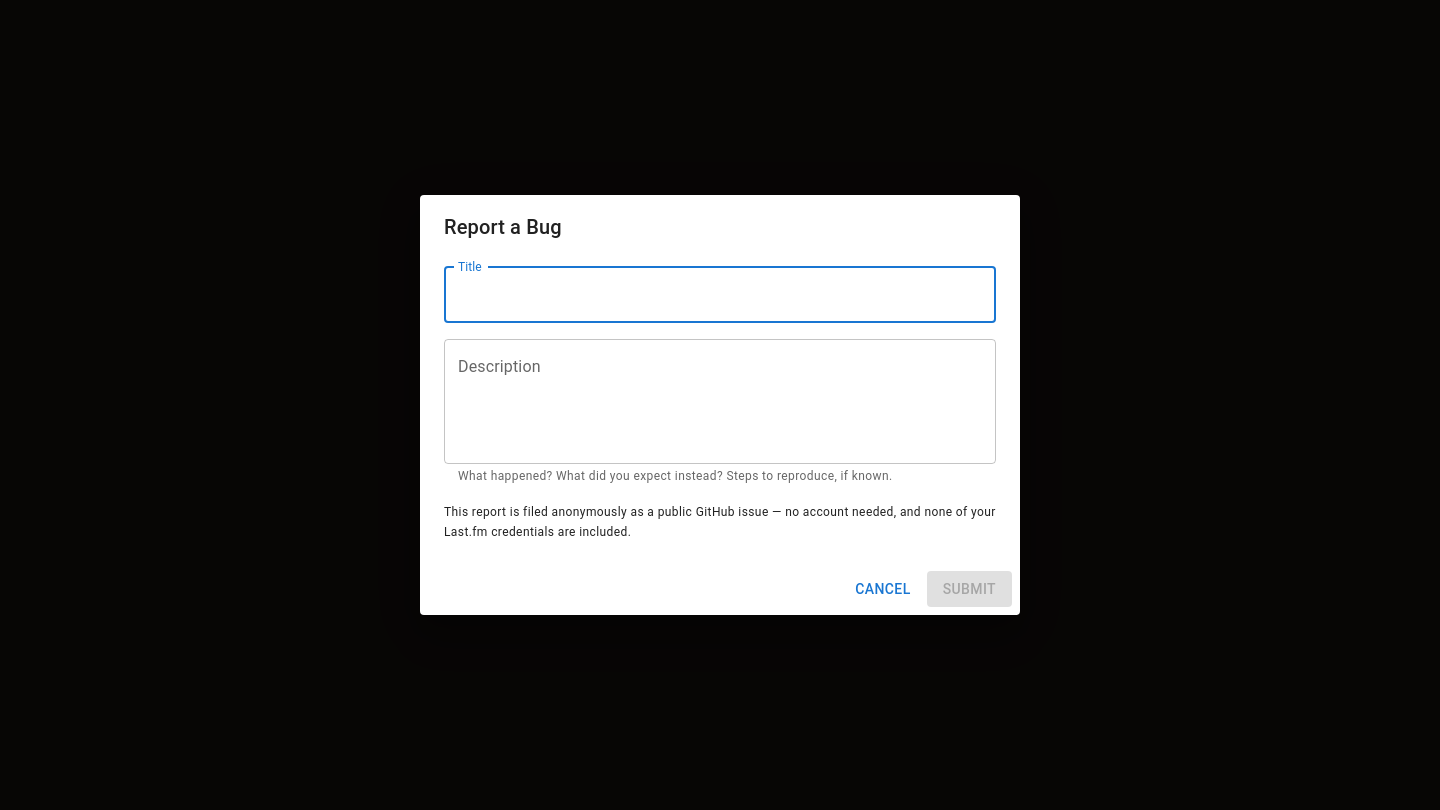
Scenario: BugReportDialog › disables submit until both fields have content
The image size is (1440, 810).
Expected: the button "Submit" is disabled, [927,571,1012,607]
Type "Title" into the field labelled "Title". click: (720, 295)
box: [444,267,996,323]
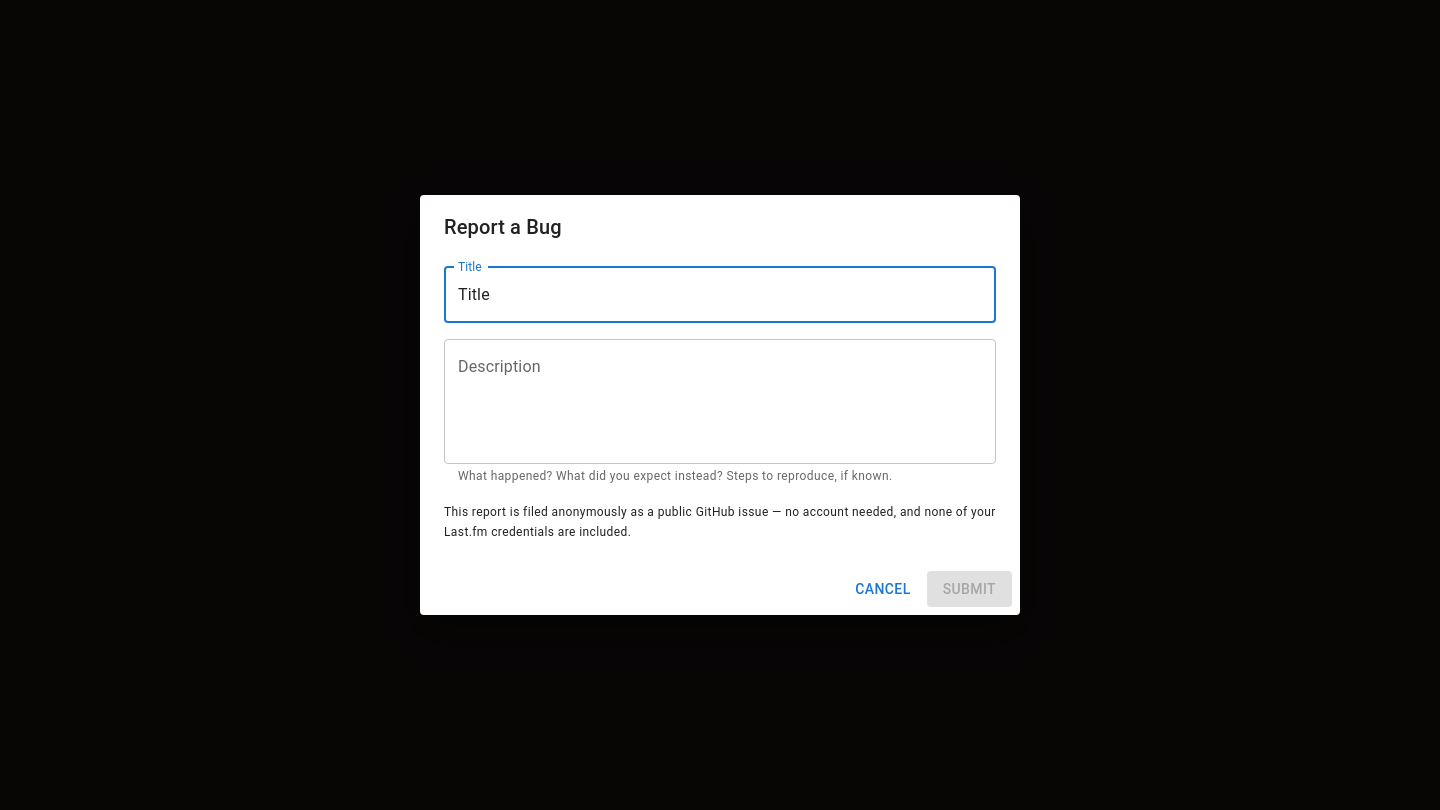
Expected: the button "Submit" is disabled, [927,571,1012,607]
Type "Description" into the text box labelled "Description". click: (720, 401)
box: [458,355,982,447]
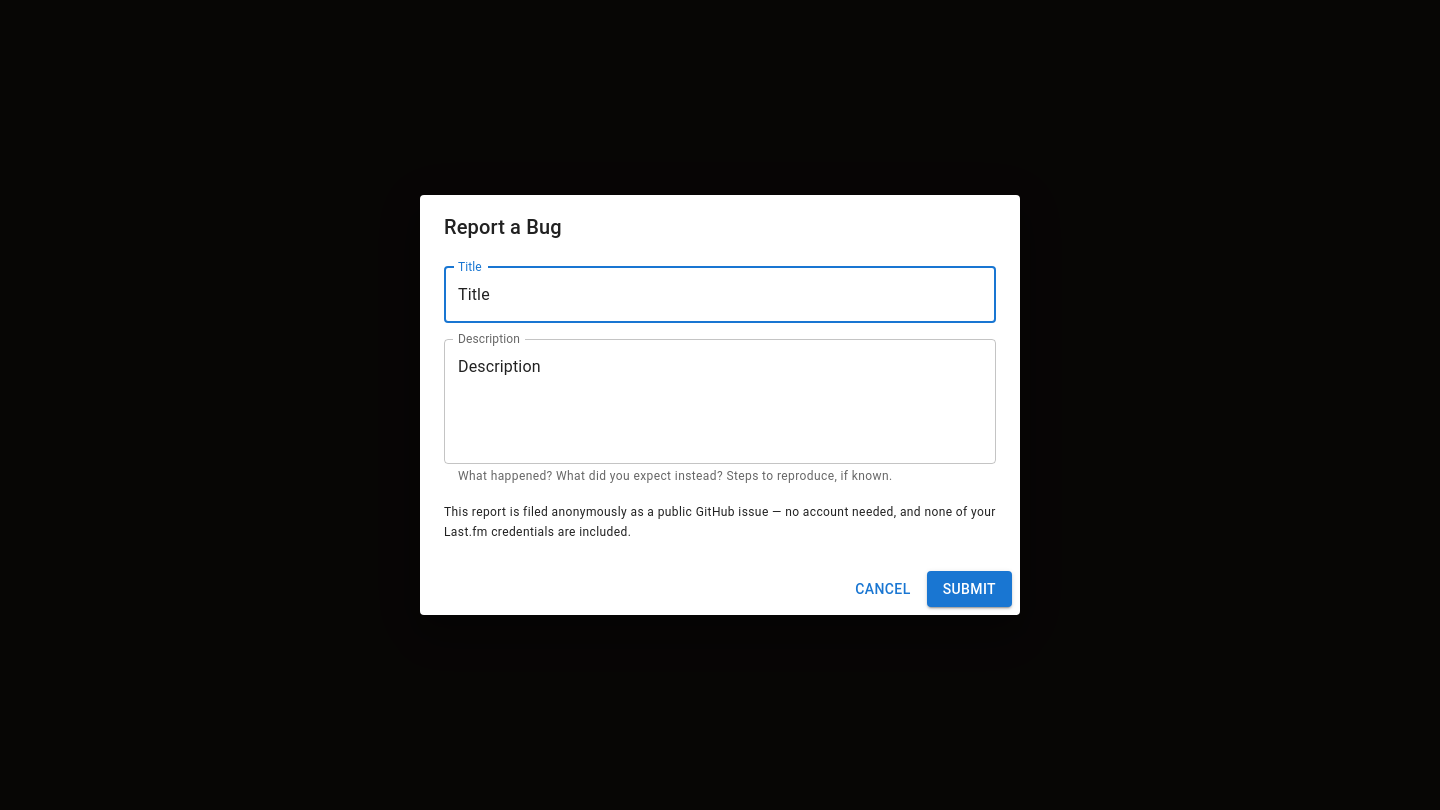
Expected: the button "Submit" is enabled, [927,571,1012,607]
